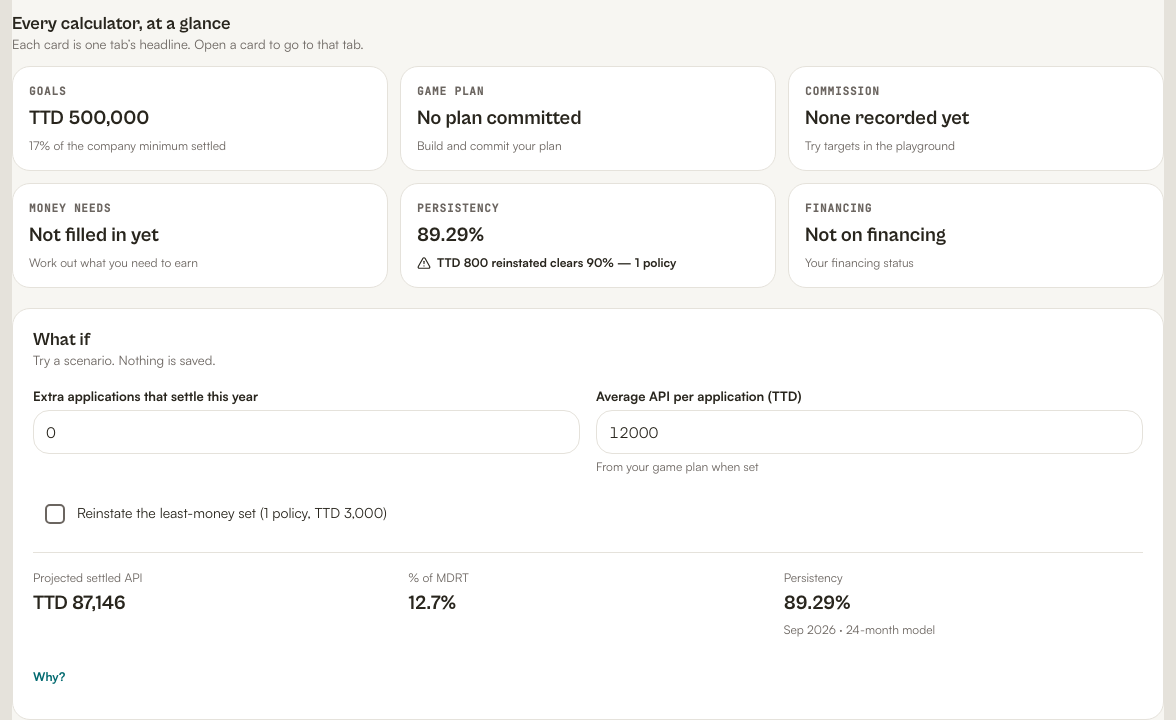
it: FrMoneyView › What if: extra applications move settled API and % of MDRT live
(page scrolled)
Replace the text in the number field labelled "Extra applications that settle this year" with "3". click: (306, 432)
box: [33,410,580,454]
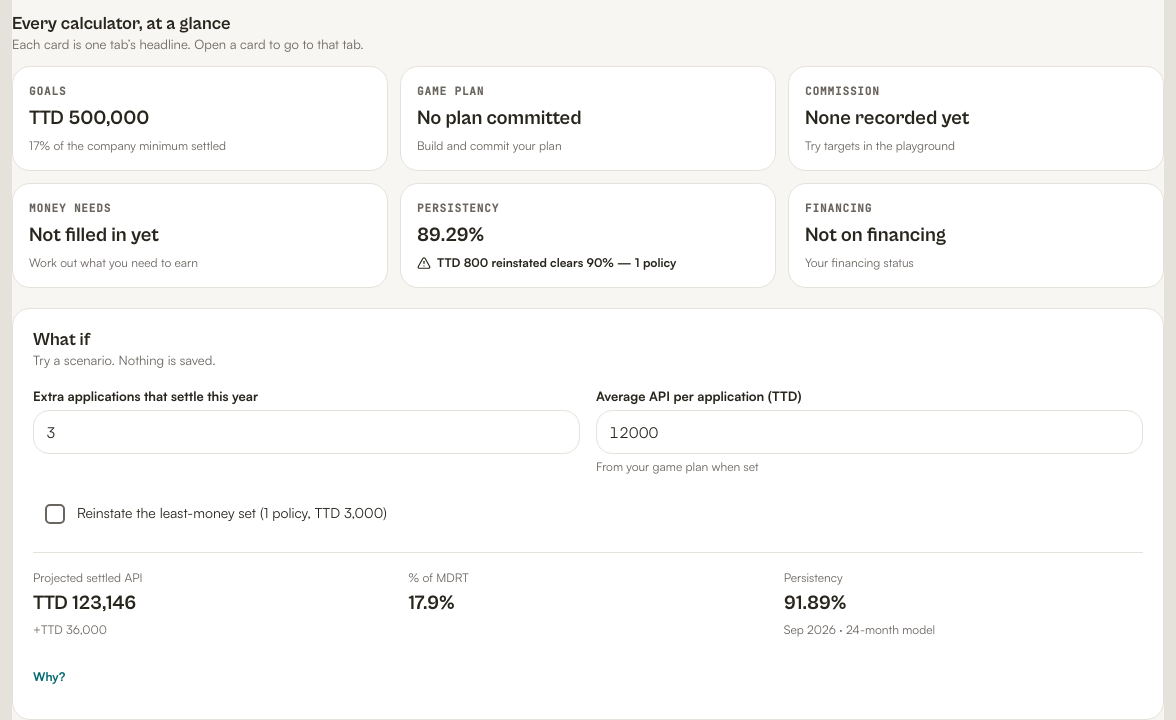
Result: the text "TTD 123,146" is shown at [33,592,136,615]
Result: the text "17.9%" is shown at [408,592,454,615]
